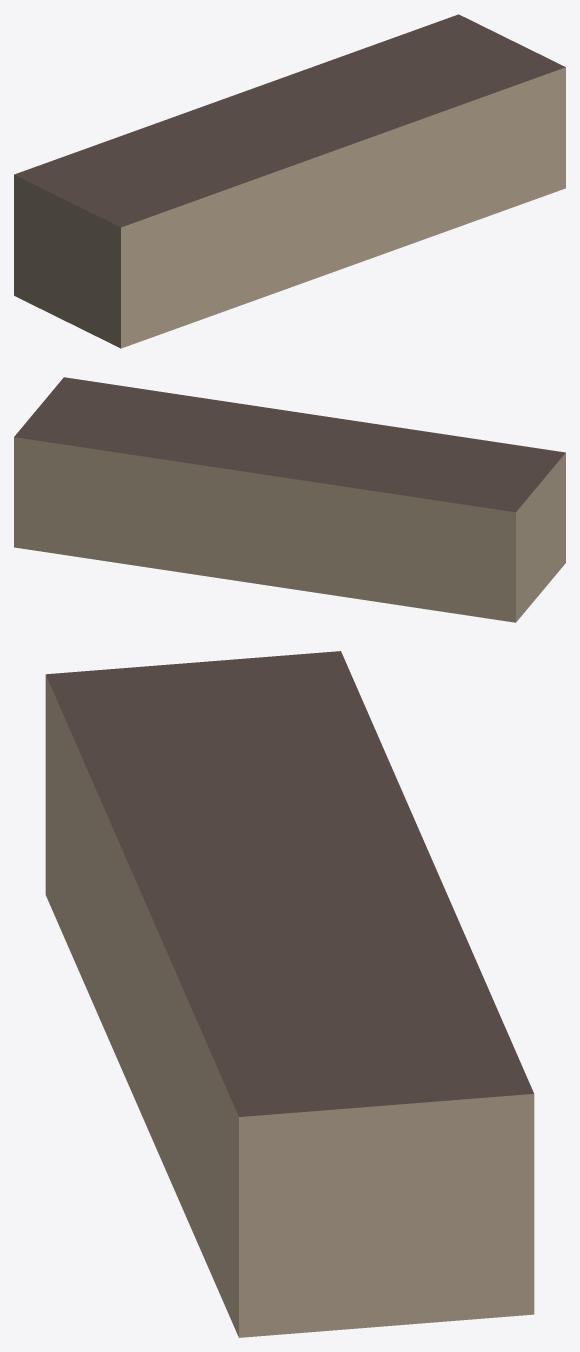
The picture shows the model from 3 angles, top to bottom: view 1: azimuth 30°, elevation 25°; view 2: azimuth 150°, elevation 25°; view 3: azimuth 270°, elevation 25°; orthographic projection. The views are drawn at different scales.
Parts seen in each view (by area): view 1: HP-w859488620; view 2: HP-w859488620; view 3: HP-w859488620.
Part boxes in pixels (<box>): HP-w859488620: <box>14,14,565,348</box>; HP-w859488620: <box>14,377,565,622</box>; HP-w859488620: <box>45,651,534,1337</box>.
Bounding box in the file's own units: 40.74 × 9 × 18.05.
